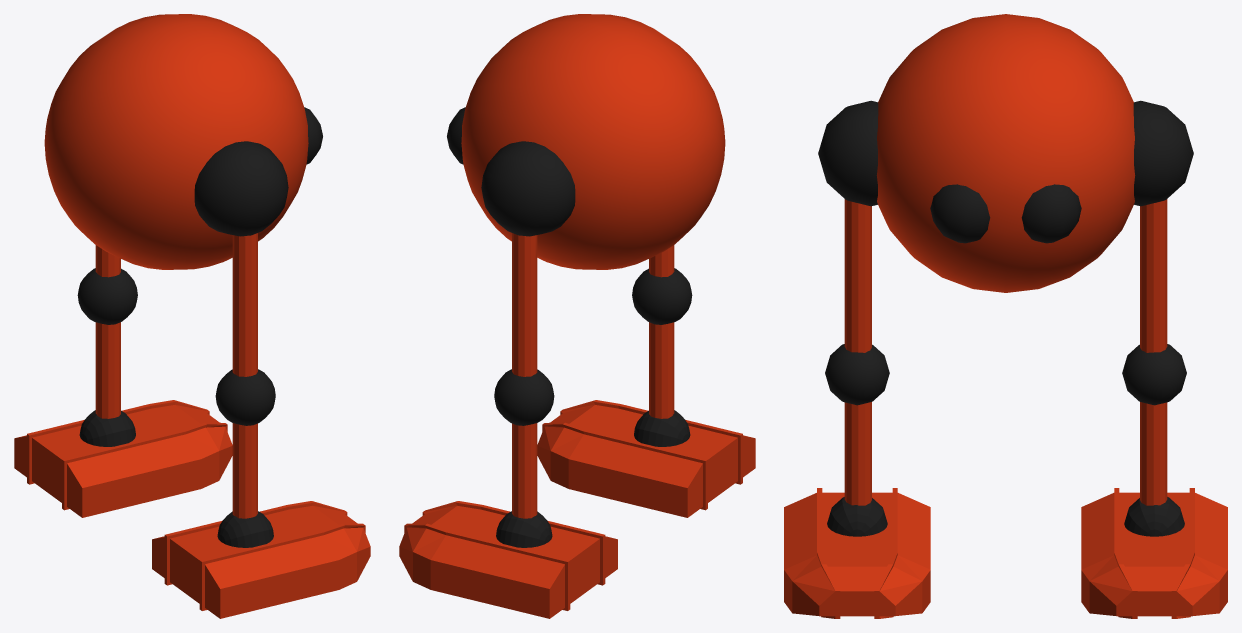
The model's file is frspbt.dae.
The picture shows the model from 3 angles, left to right: view 1: azimuth 30°, elevation 25°; view 2: azimuth 150°, elevation 25°; view 3: azimuth 270°, elevation 25°; orthographic projection. The views are drawn at different scales.
Visible parts, largest first — view 1: Sphere_001, Cube_010, Sphere_002, Sphere_004, Cylinder_008, Cylinder_006, Sphere_005, Sphere_006; view 2: Sphere_001, Cube_010, Sphere_002, Sphere_004, Cylinder_008, Cylinder_006, Sphere_005, Sphere_006; view 3: Sphere_001, Cube_010, Sphere_002, Cylinder_006, Sphere_004, Cylinder_008, Sphere_006, Sphere_005.
Boxes of the visible parts, box(x1,y1,x2,y2) form: Sphere_001: box(44, 14, 308, 269); Cube_010: box(14, 400, 370, 618); Sphere_002: box(194, 141, 288, 236); Sphere_004: box(77, 268, 275, 425); Cylinder_008: box(95, 322, 257, 518); Cylinder_006: box(95, 233, 257, 376); Sphere_005: box(79, 410, 273, 547); Sphere_006: box(304, 107, 322, 164); Sphere_001: box(461, 14, 725, 269); Cube_010: box(399, 400, 755, 618); Sphere_002: box(481, 141, 575, 236); Sphere_004: box(494, 268, 692, 425); Cylinder_008: box(512, 322, 674, 518); Cylinder_006: box(512, 233, 674, 376); Sphere_005: box(496, 410, 690, 547); Sphere_006: box(447, 107, 465, 164); Sphere_001: box(876, 14, 1135, 292); Cube_010: box(784, 488, 1227, 618); Sphere_002: box(818, 100, 1193, 206); Cylinder_006: box(844, 199, 1167, 352); Sphere_004: box(825, 344, 1186, 405); Cylinder_008: box(844, 402, 1167, 505); Sphere_006: box(930, 184, 1081, 243); Sphere_005: box(827, 497, 1184, 536).
Bounding box in the file's own units: 5.33 × 7.95 × 10.79.
